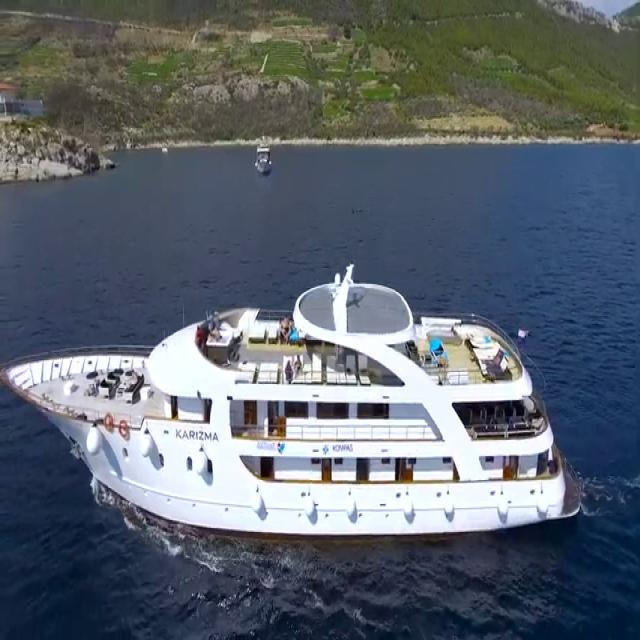houseboat: (254, 140, 274, 180)
passenger ship: (0, 262, 577, 531)
